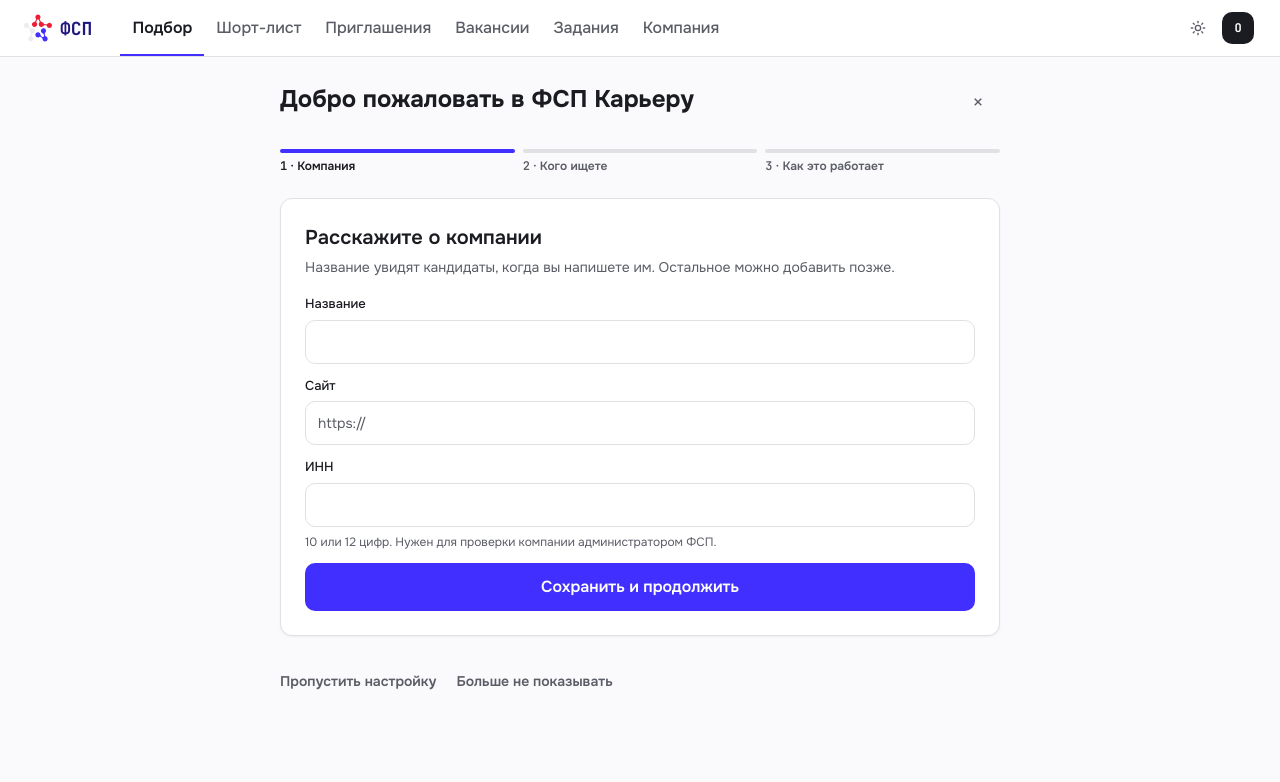
Test: новая компания: три шага онбординга без единого запроса, требующего компанию
Expected: the element with test id "employer-onboarding" is shown, [256,57,1024,728]
# Шаг 1: название обязательно.
Click the button with test id "onboarding-company-submit": {"x": 640, "y": 586} [305,562,975,610]
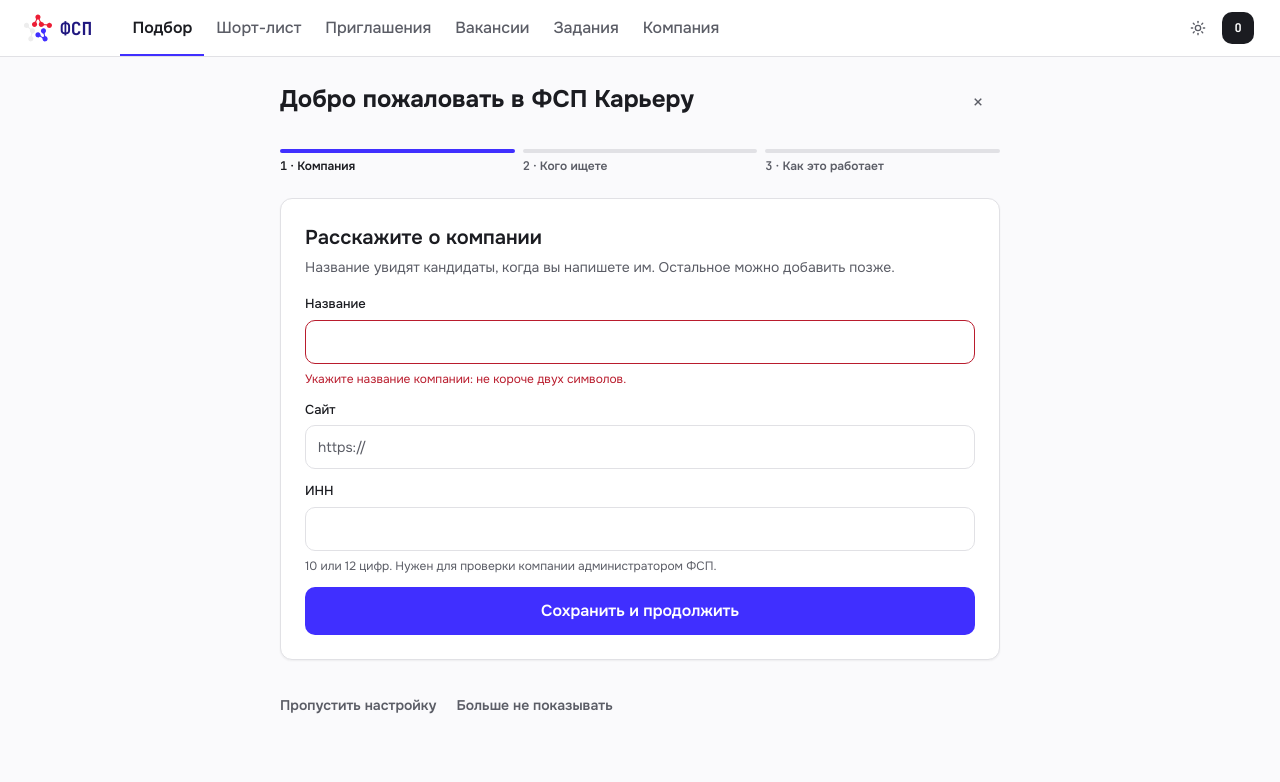
Expected: the text "Укажите название компании: не короче двух символов." is shown, [305,370,626,386]
In the field with test id "onboarding-company-name": {"x": 640, "y": 342} [305,320,975,364], type "Acme"
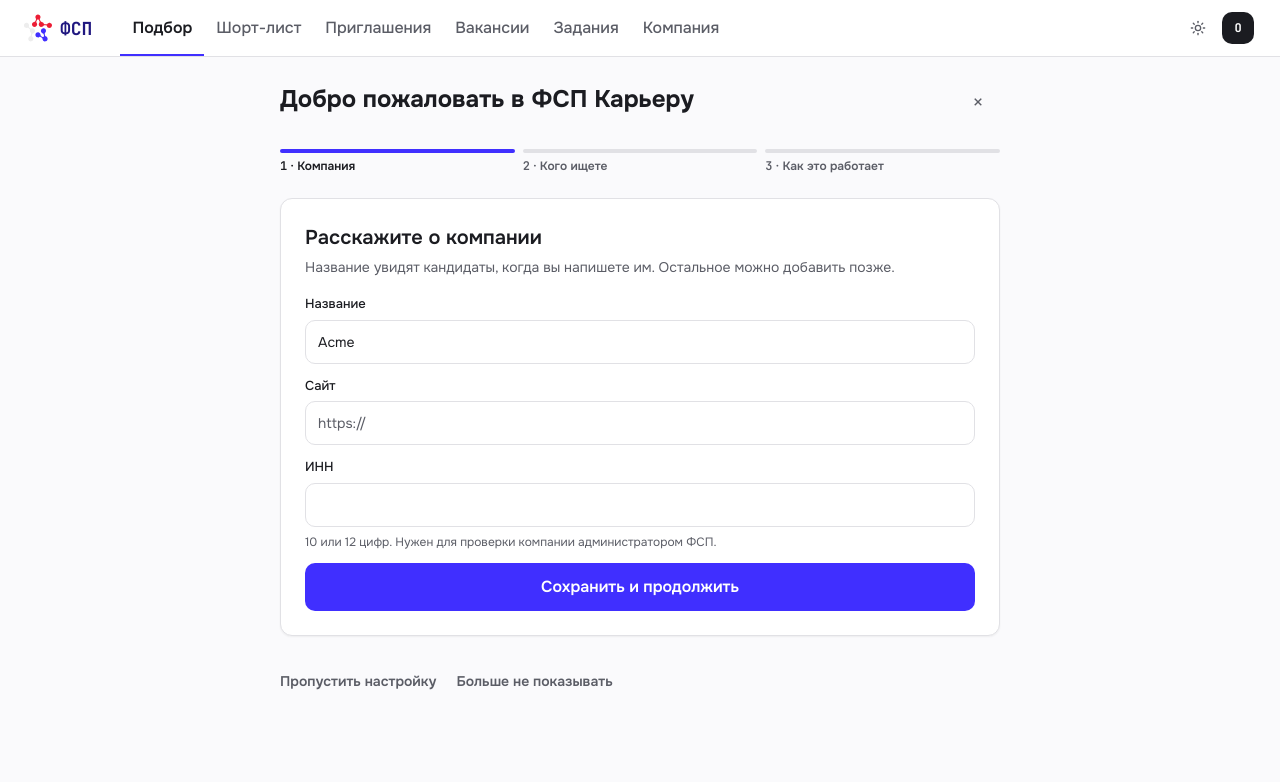
Click the button with test id "onboarding-company-submit": {"x": 640, "y": 586} [305,562,975,610]
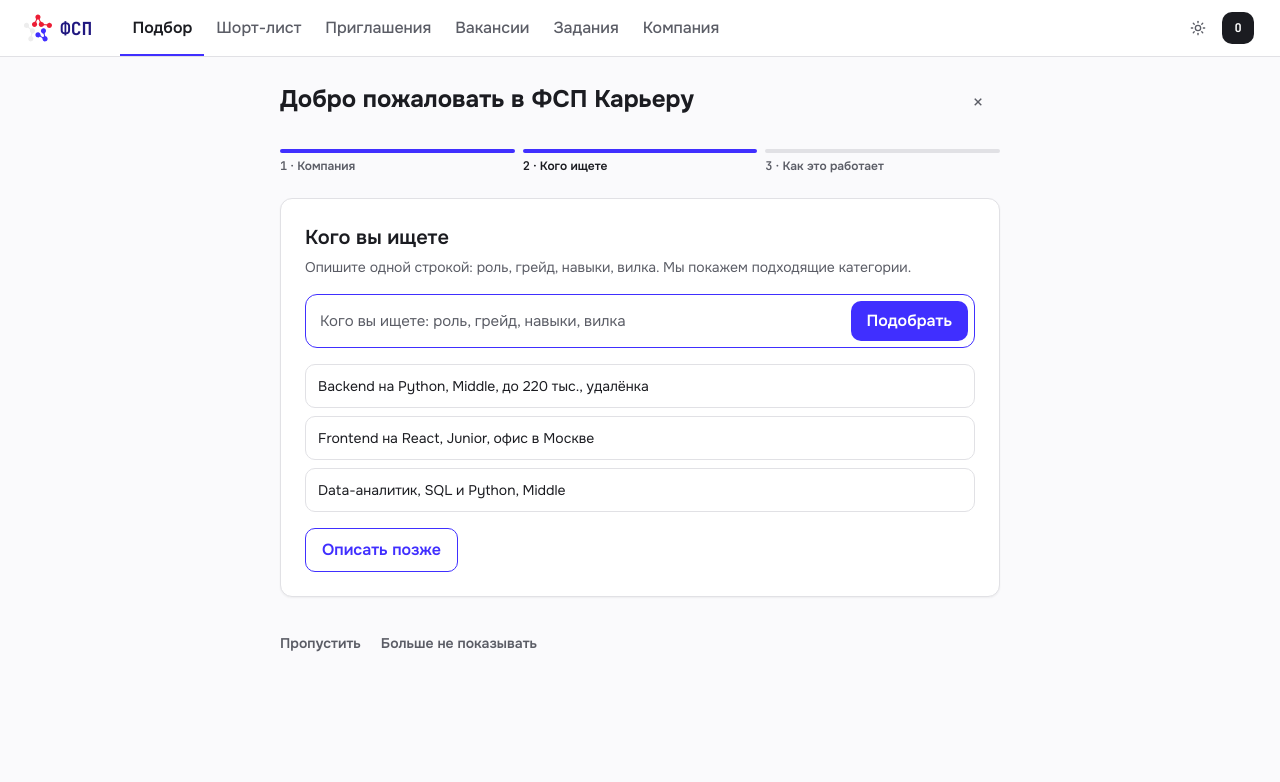
Expected: the list item with test id "flow-step-2" is marked as current, [523,149,757,174]
In the field labelled "Кого вы ищете": {"x": 580, "y": 321} [320,310,840,332], type "Backend на Python, Middle"
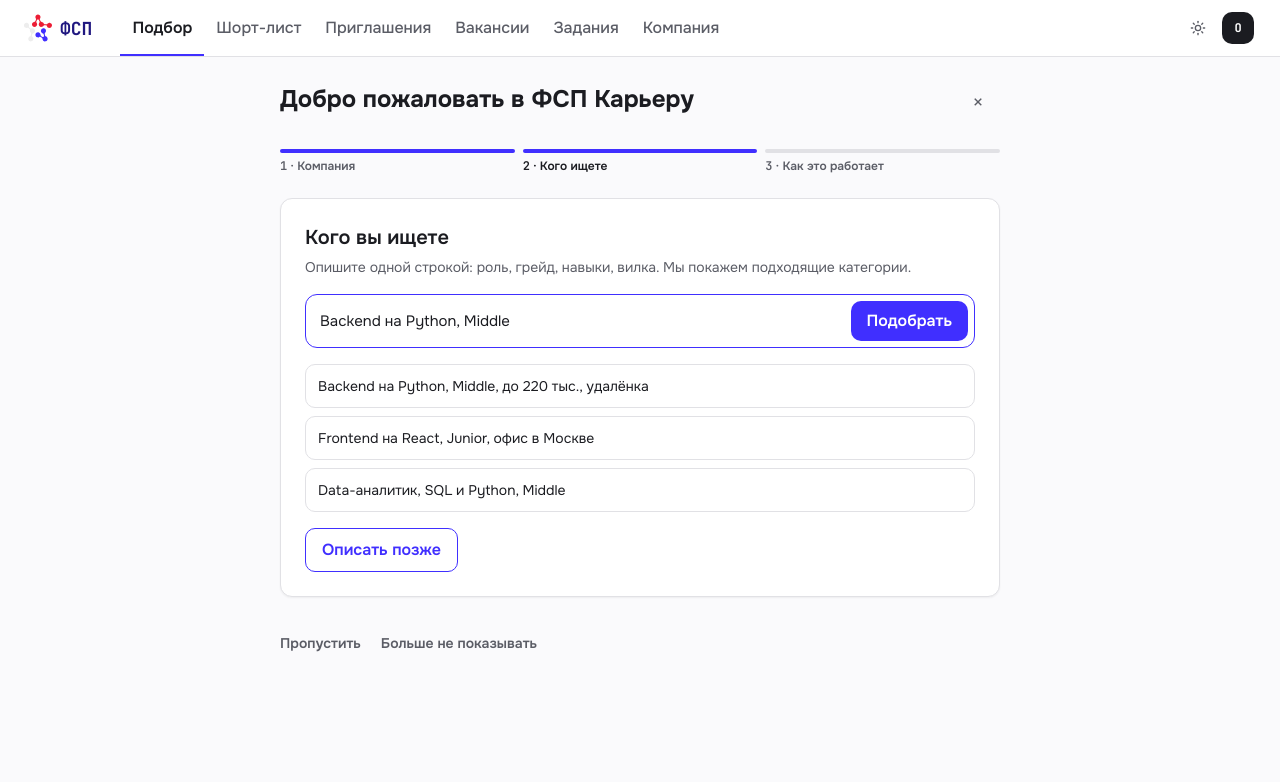
Submit the form named "Кого вы ищете", box [305,294,975,348]
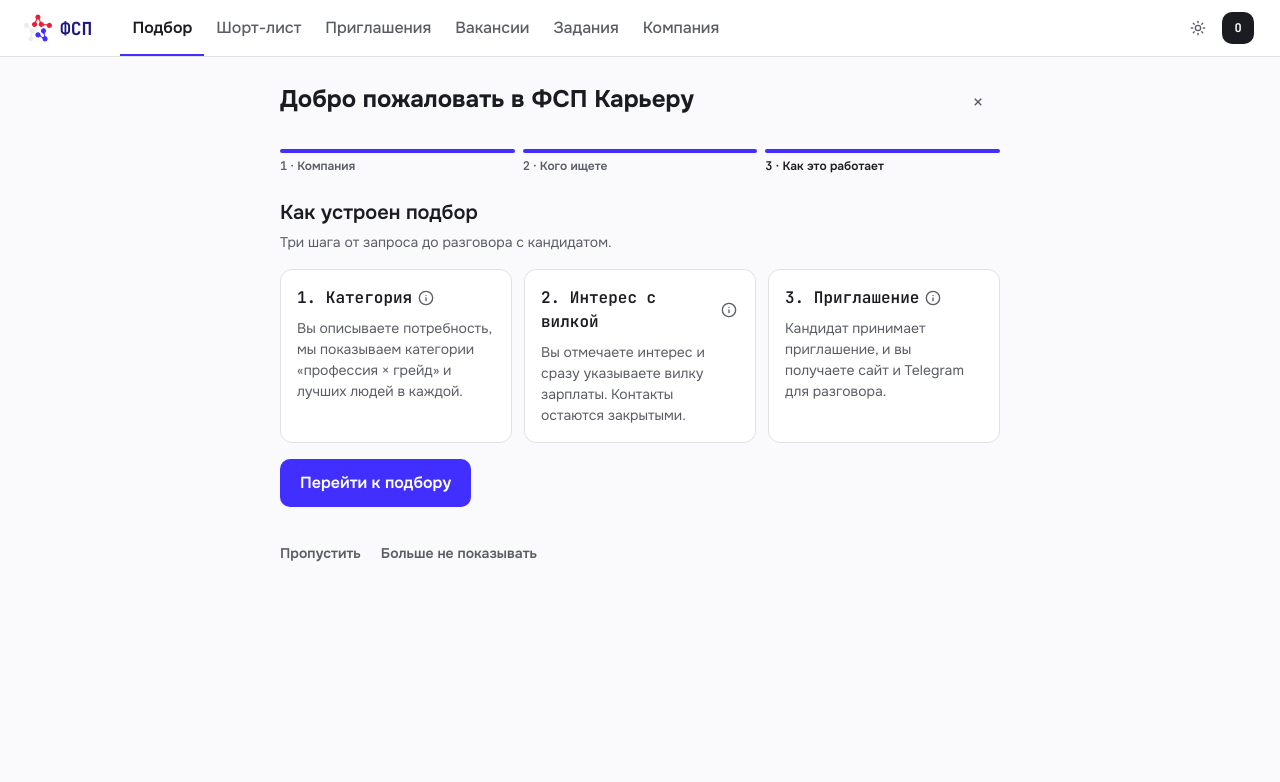
Expected: the element with test id "onboarding-card-interest" shows "вилк", [541,287,656,332]
Click the button with test id "onboarding-done": {"x": 376, "y": 483} [280,459,471,507]
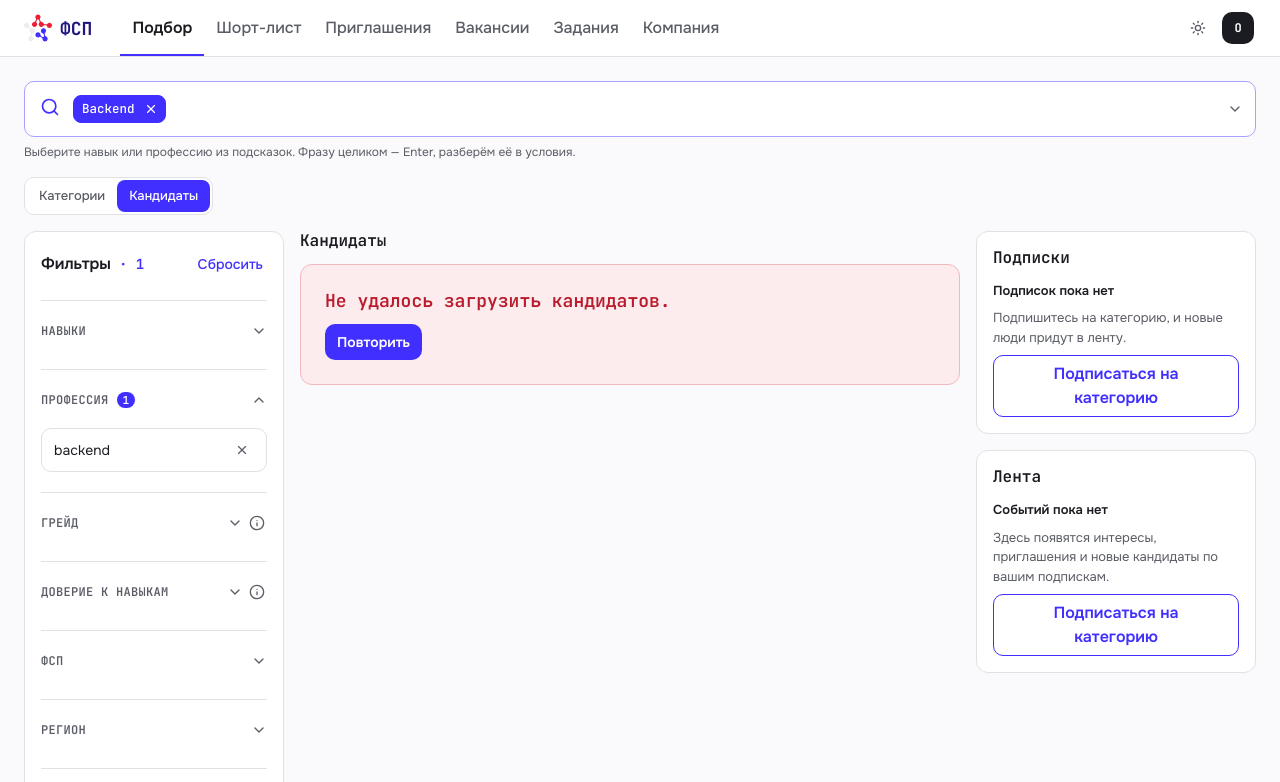
Expected: the element with test id "query-chip-profession" reads "Backend", [82,100,134,117]
Expected: the element with test id "employer-onboarding" is gone
